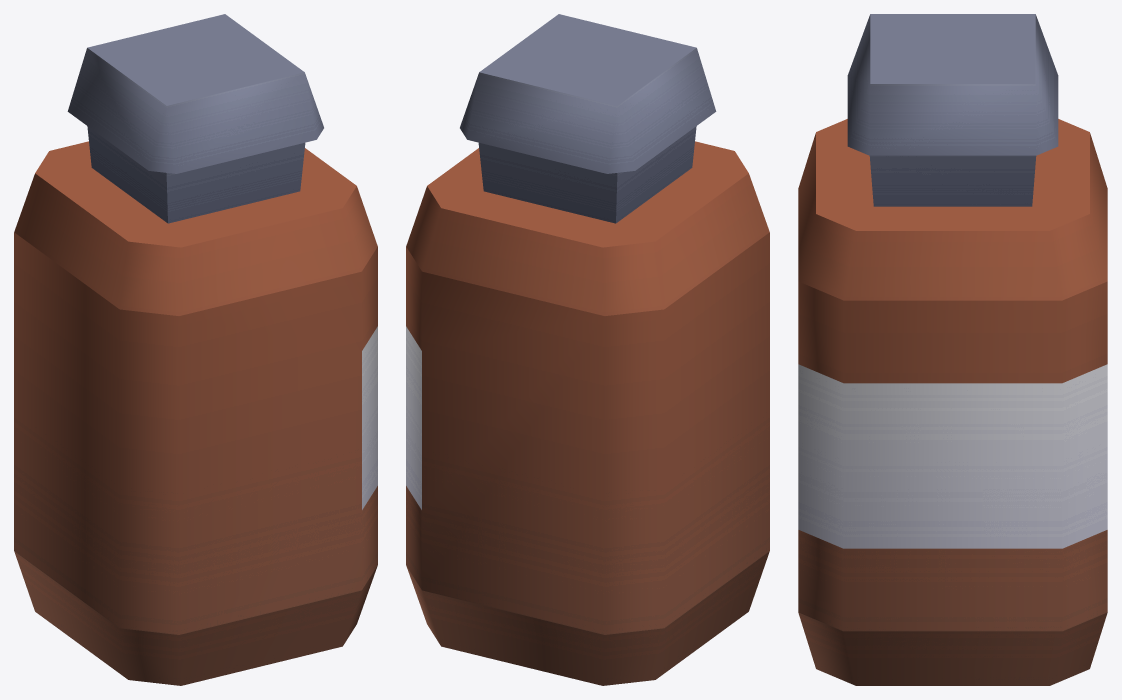
File: shaker-salt.glb
The picture shows the model from 3 angles, left to right: view 1: azimuth 30°, elevation 25°; view 2: azimuth 150°, elevation 25°; view 3: azimuth 270°, elevation 25°; orthographic projection. The views are drawn at different scales.
Parts seen in each view (by area): view 1: shaker-salt; view 2: shaker-salt; view 3: shaker-salt.
Boxes of the visible parts, left/top/right/bottom form: shaker-salt: left=14, top=14, right=377, bottom=685; shaker-salt: left=406, top=14, right=769, bottom=685; shaker-salt: left=798, top=14, right=1107, bottom=685.
Size of the model in its own units: 0.0949 by 0.196 by 0.0949.
Materials: 1 (1 with a texture image).
